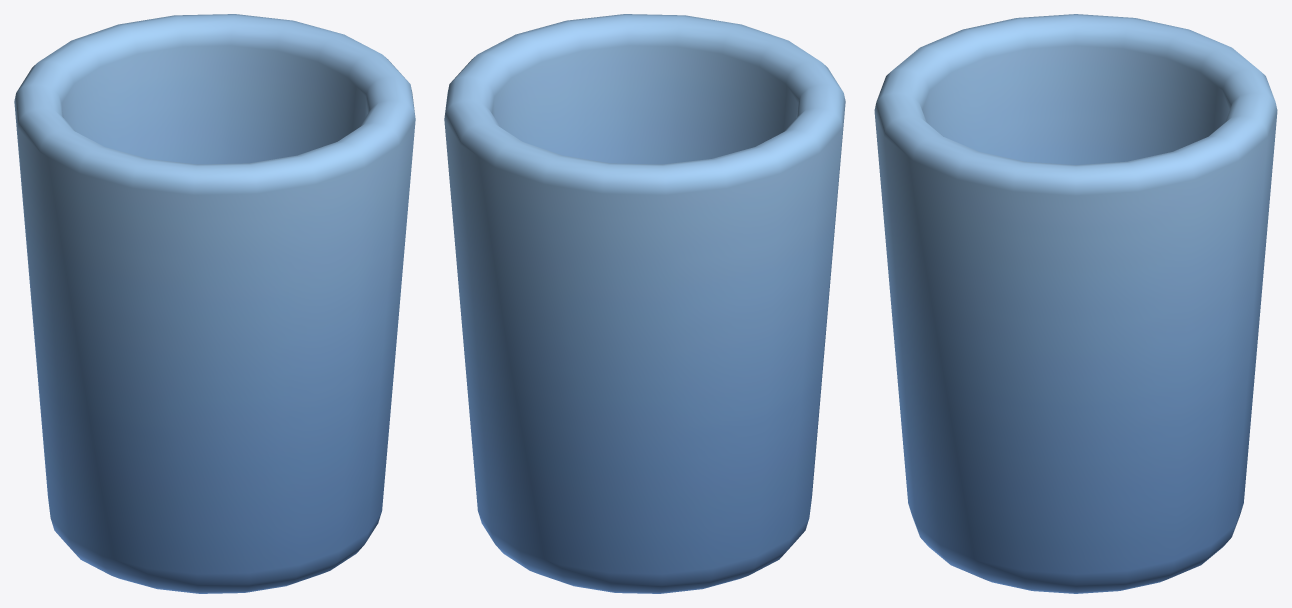
Rendered from Pen holder.fbx.
3 renders of one model, left to right at view 1: azimuth 30°, elevation 25°; view 2: azimuth 150°, elevation 25°; view 3: azimuth 270°, elevation 25°, orthographic.
Visible parts, largest first — view 1: Cylinder.112; view 2: Cylinder.112; view 3: Cylinder.112.
Part boxes in pixels (x1,y1,x2,y2): Cylinder.112: [14, 14, 415, 593]; Cylinder.112: [444, 14, 845, 593]; Cylinder.112: [874, 14, 1277, 593].
Size of the model in its own units: 49.01 by 59.47 by 49.01.
